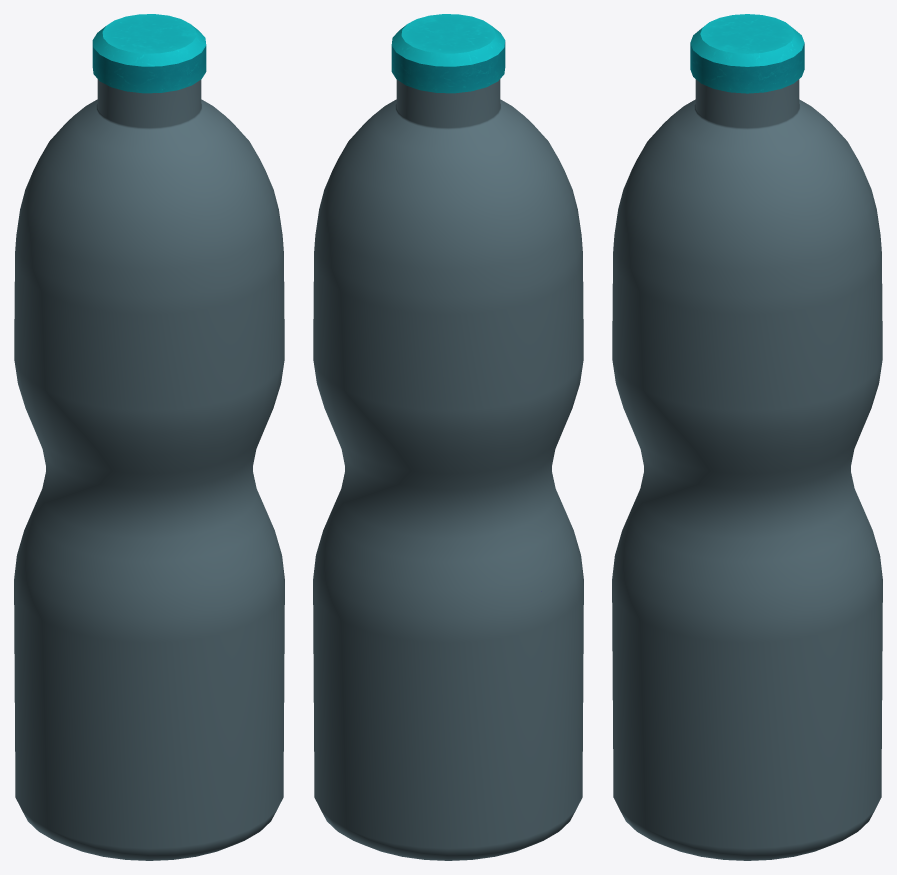
The picture shows the model from 3 angles, left to right: view 1: azimuth 30°, elevation 25°; view 2: azimuth 150°, elevation 25°; view 3: azimuth 270°, elevation 25°; orthographic projection.
Parts seen in each view (by area): view 1: pCylinder2, Tapon; view 2: pCylinder2, Tapon; view 3: pCylinder2, Tapon.
Part boxes in pixels (x1=…): pCylinder2: x1=14, y1=79, x2=284, y2=860; Tapon: x1=92, y1=14, x2=206, y2=93; pCylinder2: x1=313, y1=79, x2=583, y2=860; Tapon: x1=391, y1=14, x2=505, y2=93; pCylinder2: x1=612, y1=79, x2=882, y2=860; Tapon: x1=690, y1=14, x2=804, y2=93.
Bounding box in the file's own units: 4.13 × 13.02 × 4.1.
